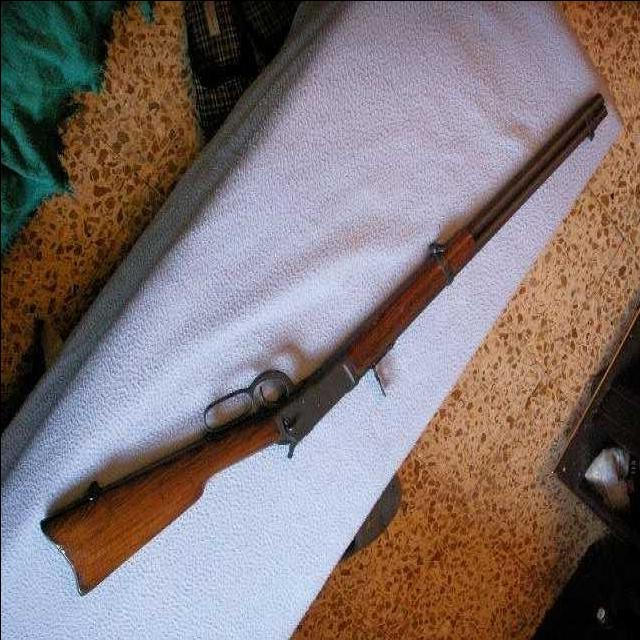heavyweapon: (20, 77, 616, 619)
